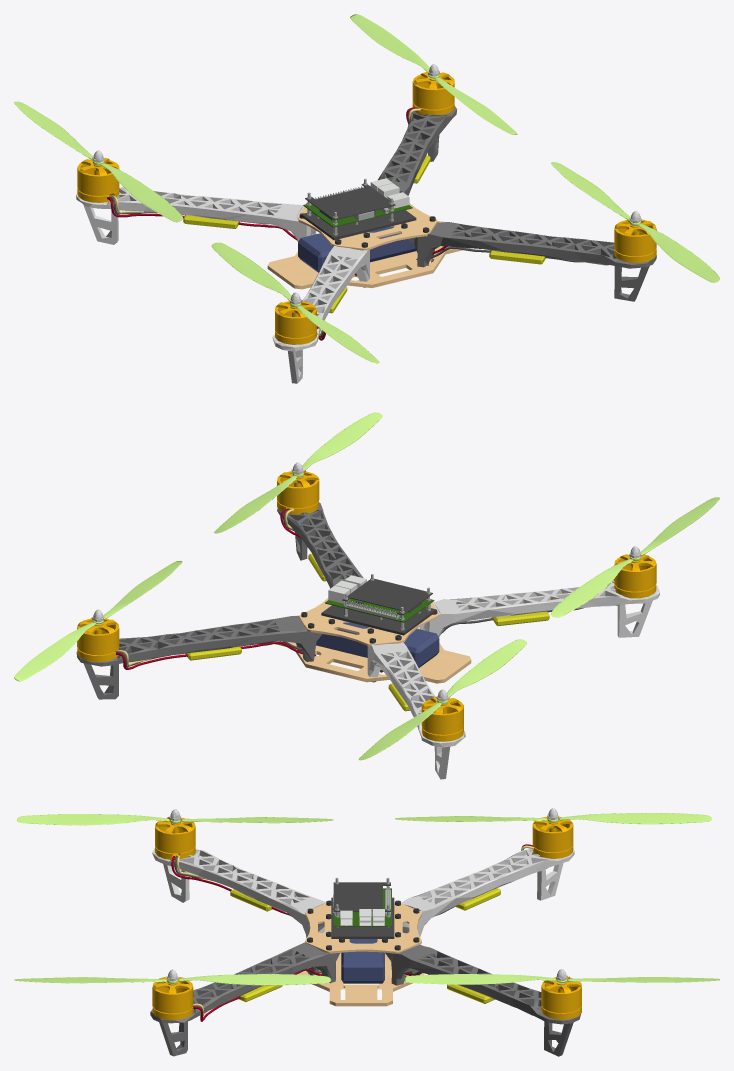
Rendered from DroneFull.fbx.
3 renders of one model, top to bottom at view 1: azimuth 30°, elevation 25°; view 2: azimuth 150°, elevation 25°; view 3: azimuth 270°, elevation 25°, orthographic. The views are drawn at different scales.
Parts seen in each view (by area): view 1: polySurface14, polySurface9, polySurface10, polySurface6, polySurface3; view 2: polySurface14, polySurface9, polySurface6, polySurface10, polySurface3; view 3: polySurface14, polySurface6, polySurface9, polySurface10, polySurface3.
Part boxes in pixels (x1,y1,x2,y2): polySurface14: [76, 64, 656, 383]; polySurface9: [211, 242, 379, 363]; polySurface10: [14, 101, 182, 222]; polySurface6: [551, 162, 719, 282]; polySurface3: [350, 14, 517, 134]; polySurface14: [76, 462, 659, 779]; polySurface9: [551, 497, 719, 617]; polySurface6: [214, 412, 382, 533]; polySurface10: [358, 639, 526, 760]; polySurface3: [14, 561, 182, 681]; polySurface14: [150, 808, 581, 1056]; polySurface6: [14, 974, 331, 985]; polySurface9: [16, 814, 333, 825]; polySurface10: [395, 813, 711, 824]; polySurface3: [404, 974, 719, 984].
Size of the model in its own units: 24.02 by 5.52 by 39.98.
